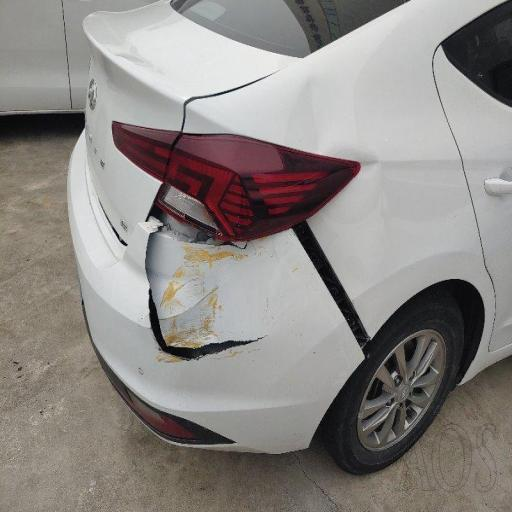broken: (114, 108, 290, 372), (156, 188, 262, 347)
